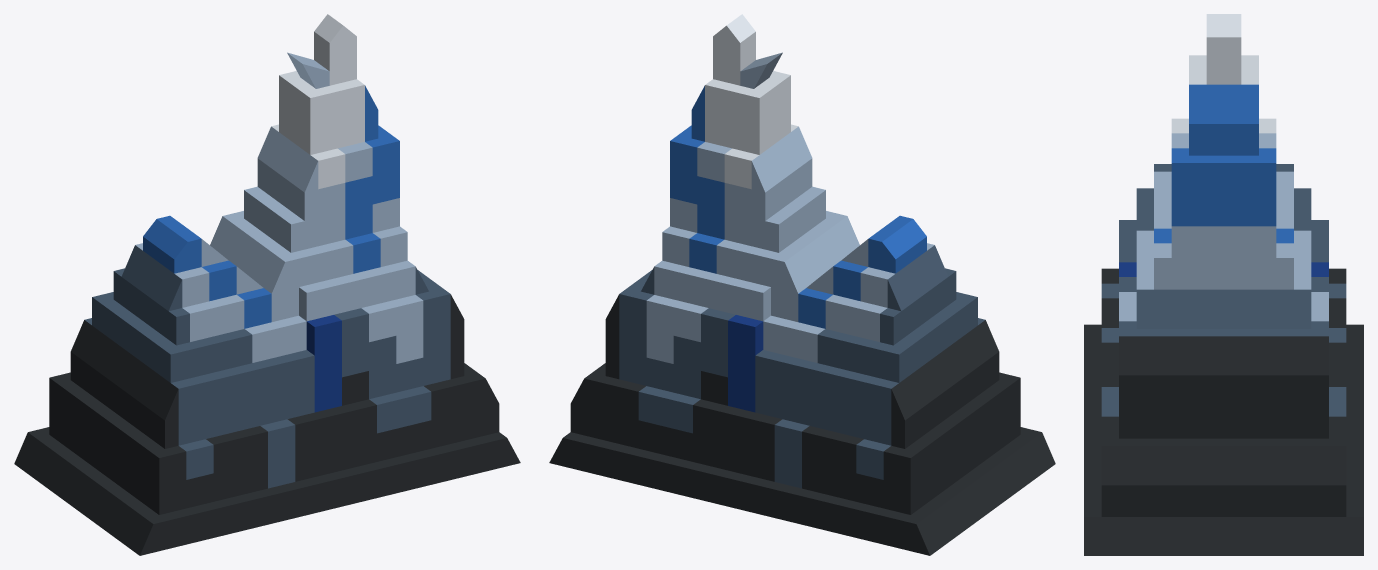
File: Rock.obj
The picture shows the model from 3 angles, left to right: view 1: azimuth 30°, elevation 25°; view 2: azimuth 150°, elevation 25°; view 3: azimuth 270°, elevation 25°; orthographic projection. The views are drawn at different scales.
Size of the model in its own units: 14 by 15 by 8.
1 material, 1 textured.
